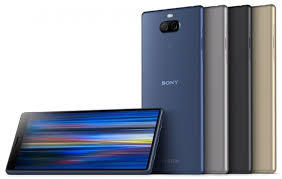sony: (140, 1, 206, 176)
